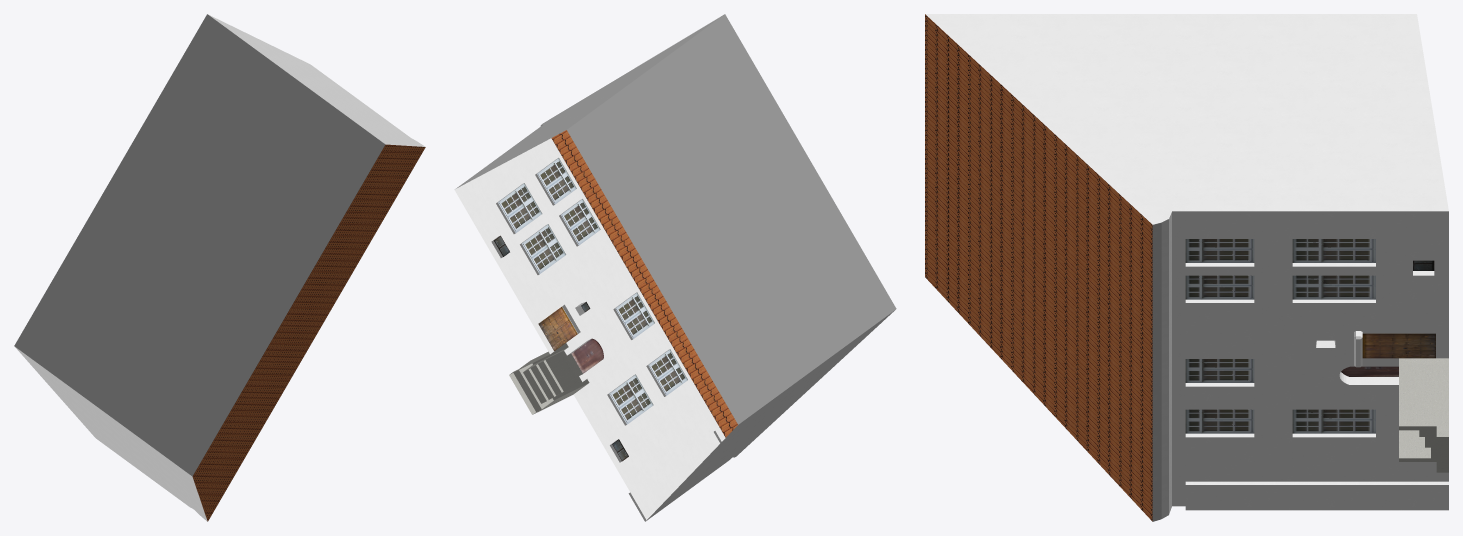
Rendered from Pyhavaimu_13.obj.
3 renders of one model, left to right at view 1: azimuth 30°, elevation 25°; view 2: azimuth 150°, elevation 25°; view 3: azimuth 270°, elevation 25°, orthographic. The views are drawn at different scales.
Visible parts, largest first — view 1: xxx, Box001; view 2: xxx, Box001; view 3: Box001.
Boxes of the visible parts, x1,y1,x2,y2 form: xxx: [14, 14, 385, 476]; Box001: [15, 14, 425, 521]; xxx: [567, 14, 896, 424]; Box001: [454, 15, 894, 521]; Box001: [925, 14, 1448, 521].
Size of the model in its own units: 12.22 by 15.33 by 12.72.
